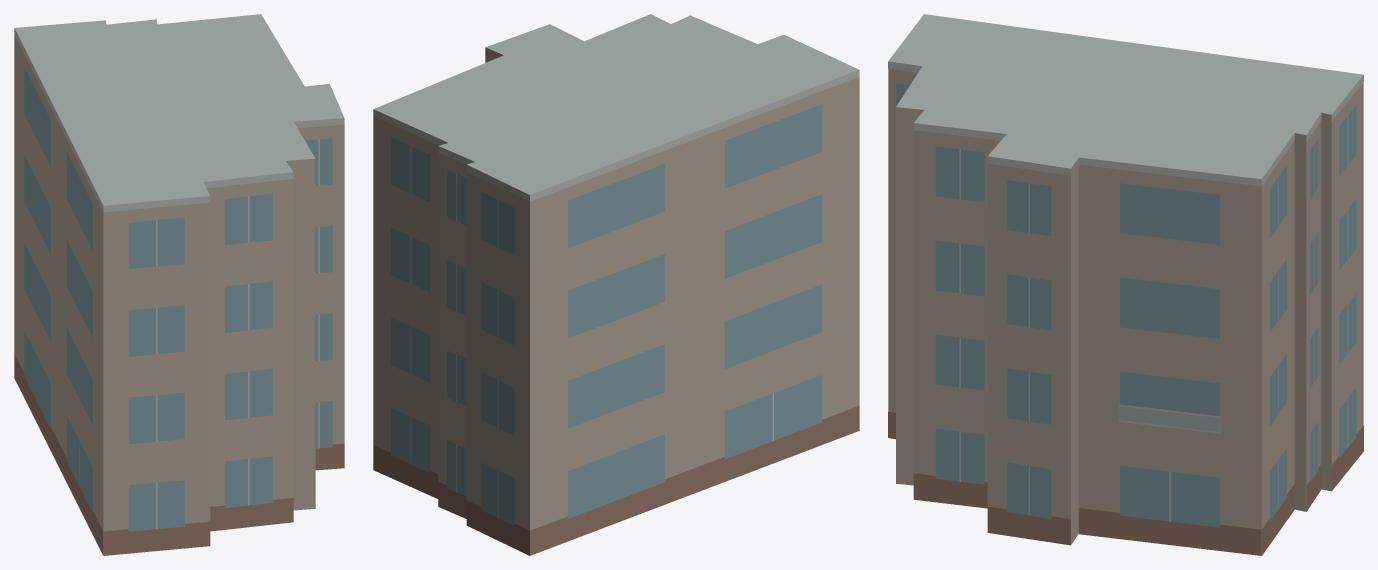
Rendered from survey-upis-32913947.glb.
The picture shows the model from 3 angles, left to right: view 1: azimuth 30°, elevation 25°; view 2: azimuth 150°, elevation 25°; view 3: azimuth 270°, elevation 25°; orthographic projection. The views are drawn at different scales.
Parts seen in each view (by area): view 1: survey-upis-32913947.tmp; view 2: survey-upis-32913947.tmp; view 3: survey-upis-32913947.tmp.
Part boxes in pixels (<box>): survey-upis-32913947.tmp: <box>14,14,344,555</box>; survey-upis-32913947.tmp: <box>373,14,859,555</box>; survey-upis-32913947.tmp: <box>888,14,1363,555</box>.
Size of the model in its own units: 12.05 by 12.8 by 14.66.
